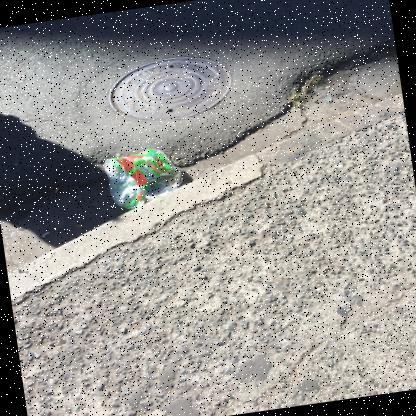Broken glass: (325, 96, 331, 101)
Cigarette: (54, 188, 58, 192)
Plastic film: (103, 148, 183, 209)
